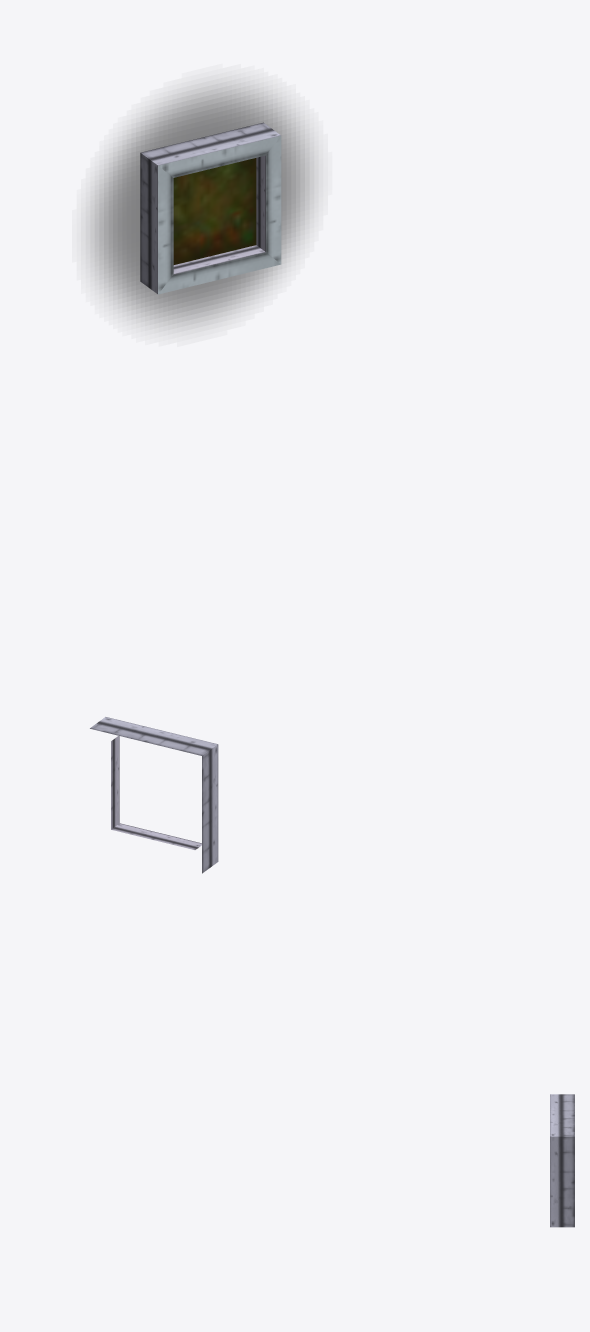
File: prop_snow_tree_large_brickbox_ul.glb
The picture shows the model from 3 angles, top to bottom: view 1: azimuth 30°, elevation 25°; view 2: azimuth 150°, elevation 25°; view 3: azimuth 270°, elevation 25°; orthographic projection. The views are drawn at different scales.
Visible parts, largest first — view 1: shadow_snow_tree_large_brickbox_ul, tree_box_planter_bricks; view 2: tree_box_planter_bricks; view 3: tree_box_planter_bricks.
Boxes of the visible parts, x1=… form: shadow_snow_tree_large_brickbox_ul: x1=90, y1=83, x2=313, y2=328; tree_box_planter_bricks: x1=140, y1=122, x2=281, y2=294; tree_box_planter_bricks: x1=90, y1=717, x2=218, y2=873; tree_box_planter_bricks: x1=550, y1=1094, x2=574, y2=1227.
Size of the model in its own units: 13.97 by 12.32 by 29.17.
Materials: 5 (5 with a texture image).
